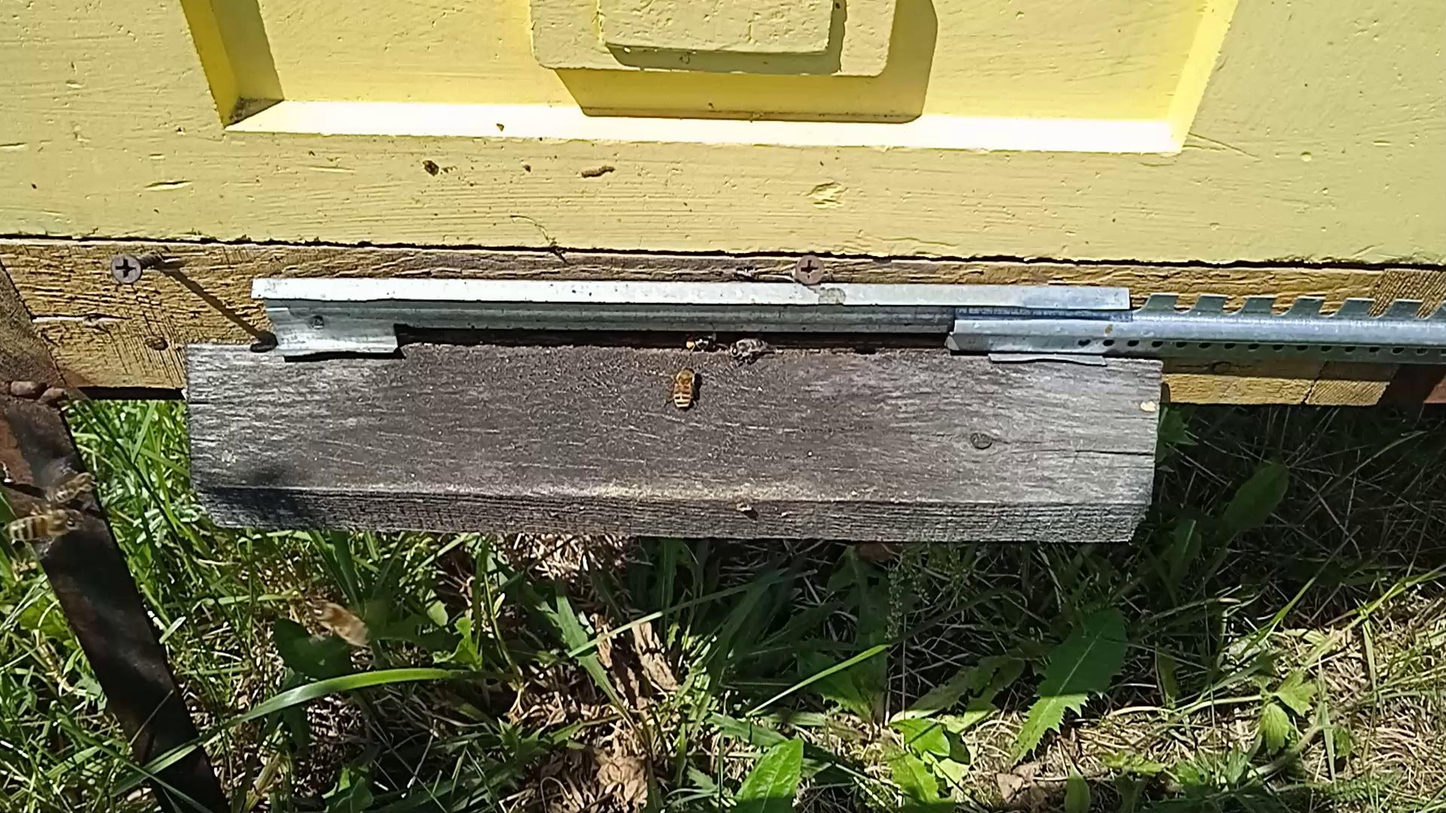worker-bee: (4, 508, 85, 551), (310, 599, 371, 647), (49, 470, 101, 504), (726, 332, 770, 362), (671, 365, 699, 411), (682, 331, 718, 352)
